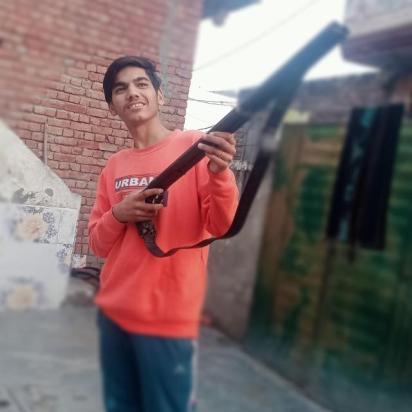Gun: (126, 18, 355, 241)
